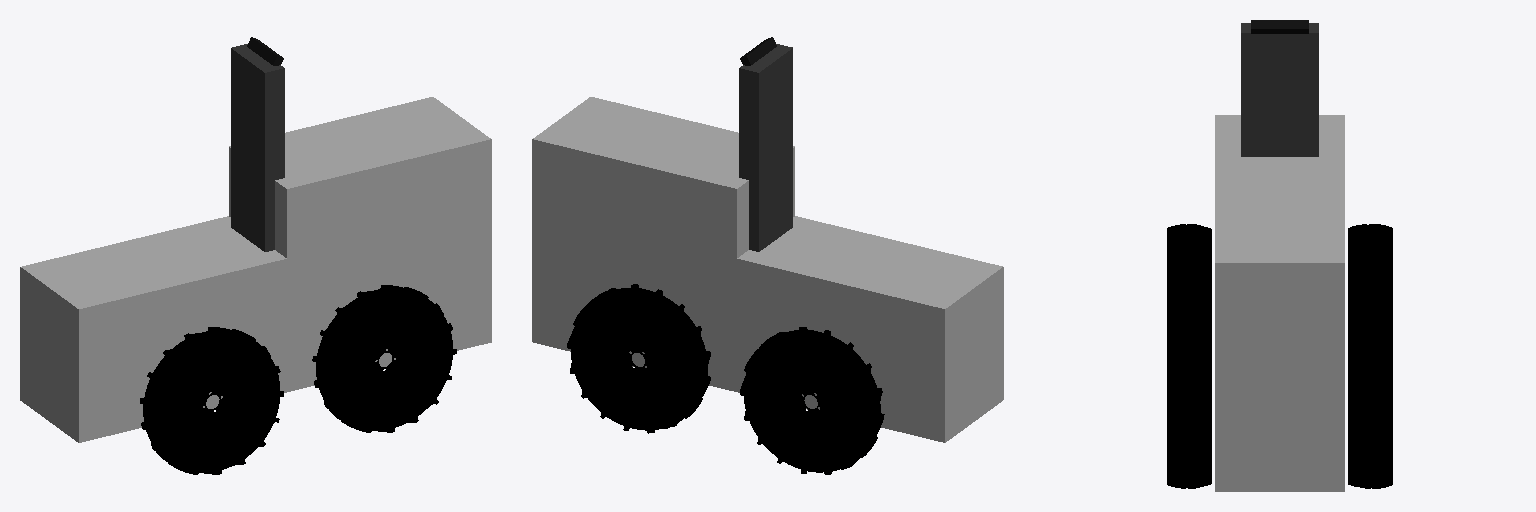
robot.urdf — fr_robot_sim_r1:
<?xml version="1.0" encoding="utf-8"?>
<!--
  fr_robot_sim_r1 — Evaluation URDF (r1_eval.urdf)

  Geometry summary (all measurements from ground / base_footprint origin):
  ┌──────────────┬───────────────────────────────────────────────────────────────┐
  │ bonnet       │ tall front hood;  0.770(x) × 0.380(y) × 0.731(z) m          │
  │              │ bottom at z=0.175 m,  x from pole(0) to +0.770 m             │
  │ carrier      │ flat rear platform; 0.783(x) × 0.380(y) × 0.481(z) m        │
  │              │ bottom at z=0.175 m,  x from pole(0) to -0.783 m             │
  │ pole         │ vertical centre frame; 0.075(x) × 0.224(y) × 0.645(z) m     │
  │              │ sits on carrier top (z=0.656 m), x=0 (axle midpoint)         │
  │ stereo_cam   │ Orbbec Gemini 336L placeholder; 0.030(x)×0.170(y)×0.035(z)  │
  │              │ joint at (0.029, 0, 1.314) m, pitched 30° nose-down          │
  └──────────────┴───────────────────────────────────────────────────────────────┘

  Sensor attachment points:
    • stereo_cam  — stereo/depth camera frame; +x is look direction (30° below
                    horizontal). Add <gazebo reference="stereo_cam"> sensor block.

  Physics identical to production:
    • DiffDrive, JointStatePublisher, PosePublisher Gazebo plugins unchanged
    • Total mass ≈ 350 kg (4 × 7.07 kg wheels + 188 bonnet + 126 carrier +
                           7.2 pole + 0.5 camera)
    • All joint origins / axes unchanged
-->
<robot name="fr_robot_sim_r1">

  <!-- ══════════════════════════════════════════════════════════════════
       base_footprint — ground-plane reference frame, no geometry.
       Origin = ground level directly below the axle midpoint.
       ══════════════════════════════════════════════════════════════════ -->
  <link name="base_footprint"/>

  <link name="fl_whl">
    <inertial>
      <origin
        xyz="-2.95136137751228E-12 -0.0649890184058302 -1.38333788868295E-13"
        rpy="0 0 0"/>
      <mass value="7.06811205934986"/>
      <inertia
        ixx="0.153378078859329"
        ixy="3.48878255349016E-13"
        ixz="-7.25942340337194E-07"
        iyy="0.277789945529784"
        iyz="1.67204191517711E-13"
        izz="0.153379477023329"/>
    </inertial>
    <visual>
      <origin xyz="0 0 0" rpy="0 0 0"/>
      <geometry>
        <mesh filename="package://diffbot_description/meshes/visual/fl_whl.STL"/>
      </geometry>
      <material name="tyre_black">
        <color rgba="0 0 0 1"/>
      </material>
    </visual>
    <collision>
      <origin xyz="0 0 0" rpy="0 0 0"/>
      <geometry>
        <mesh filename="package://diffbot_description/meshes/visual/fl_whl.STL"/>
      </geometry>
    </collision>
  </link>

  <joint name="fl_whl_j" type="continuous">
    <origin xyz="0.32511 0.32852 0.24872" rpy="0 0 0"/>
    <parent link="base_footprint"/>
    <child link="fl_whl"/>
    <axis xyz="0 1 0">
      <dynamics damping="0.1" friction="0.0"/>
    </axis>
  </joint>

  <link name="fr_whl">
    <inertial>
      <origin
        xyz="3.94406729498087E-13 0.0649890184057719 -5.67074165402914E-13"
        rpy="0 0 0"/>
      <mass value="7.06811205937898"/>
      <inertia
        ixx="0.153377774110482"
        ixy="3.27658973589324E-14"
        ixz="-8.95930429308197E-08"
        iyy="0.277789945530908"
        iyz="-3.70758291602672E-14"
        izz="0.153379781773593"/>
    </inertial>
    <visual>
      <origin xyz="0 0 0" rpy="0 0 0"/>
      <geometry>
        <mesh filename="package://diffbot_description/meshes/visual/fr_whl.STL"/>
      </geometry>
      <material name="tyre_black">
        <color rgba="0 0 0 1"/>
      </material>
    </visual>
    <collision>
      <origin xyz="0 0 0" rpy="0 0 0"/>
      <geometry>
        <mesh filename="package://diffbot_description/meshes/visual/fr_whl.STL"/>
      </geometry>
    </collision>
  </link>

  <joint name="fr_whl_j" type="continuous">
    <origin xyz="0.32511 -0.32873 0.24872" rpy="0 0 0"/>
    <parent link="base_footprint"/>
    <child link="fr_whl"/>
    <axis xyz="0 1 0">
      <dynamics damping="0.1" friction="0.0"/>
    </axis>
  </joint>

  <link name="bl_whl">
    <inertial>
      <origin
        xyz="-1.87311277599633E-12 -0.0649890184058974 5.85587134338539E-13"
        rpy="0 0 0"/>
      <mass value="7.06811205932077"/>
      <inertia
        ixx="0.153379577326545"
        ixy="3.16018084950189E-13"
        ixz="6.13748296895596E-07"
        iyy="0.27778994552866"
        iyz="9.01914517128869E-15"
        izz="0.153377978554733"/>
    </inertial>
    <visual>
      <origin xyz="0 0 0" rpy="0 0 0"/>
      <geometry>
        <mesh filename="package://diffbot_description/meshes/visual/bl_whl.STL"/>
      </geometry>
      <material name="tyre_black">
        <color rgba="0 0 0 1"/>
      </material>
    </visual>
    <collision>
      <origin xyz="0 0 0" rpy="0 0 0"/>
      <geometry>
        <mesh filename="package://diffbot_description/meshes/visual/bl_whl.STL"/>
      </geometry>
    </collision>
  </link>

  <joint name="bl_whl_j" type="continuous">
    <origin xyz="-0.32489 0.32852 0.24872" rpy="0 0 0"/>
    <parent link="base_footprint"/>
    <child link="bl_whl"/>
    <axis xyz="0 1 0">
      <dynamics damping="0.1" friction="0.0"/>
    </axis>
  </joint>

  <link name="br_whl">
    <inertial>
      <origin
        xyz="-1.96509475358653E-14 0.0649890184058985 -3.36480843188269E-13"
        rpy="0 0 0"/>
      <mass value="7.06811205932075"/>
      <inertia
        ixx="0.15337943089883"
        ixy="3.29634047384018E-14"
        ixz="7.67692927860888E-07"
        iyy="0.277789945528659"
        iyz="-2.50307281304881E-14"
        izz="0.153378124982513"/>
    </inertial>
    <visual>
      <origin xyz="0 0 0" rpy="0 0 0"/>
      <geometry>
        <mesh filename="package://diffbot_description/meshes/visual/br_whl.STL"/>
      </geometry>
      <material name="tyre_black">
        <color rgba="0 0 0 1"/>
      </material>
    </visual>
    <collision>
      <origin xyz="0 0 0" rpy="0 0 0"/>
      <geometry>
        <mesh filename="package://diffbot_description/meshes/visual/br_whl.STL"/>
      </geometry>
    </collision>
  </link>

  <joint name="br_whl_j" type="continuous">
    <origin xyz="-0.32489 -0.32873 0.24872" rpy="0 0 0"/>
    <parent link="base_footprint"/>
    <child link="br_whl"/>
    <axis xyz="0 1 0">
      <dynamics damping="0.1" friction="0.0"/>
    </axis>
  </joint>

  <!-- ══════════════════════════════════════════════════════════════════
       bonnet — tall front hood

       Box   : 0.770 m (x) × 0.380 m (y) × 0.731 m (z)
       Extent: x  [0, +0.770]  (pole at x=0 → front face at x=+0.770)
               z  [+0.175, +0.906]  (ground clearance 175 mm)
       Width 0.380 m = wheel separation (657 mm) − full tire width (157 mm),
       chosen so the box clears the inner half of each tyre.
       Mass 188 kg (volume-proportional share of 321.7 kg chassis pool).
       ══════════════════════════════════════════════════════════════════ -->
  <link name="bonnet">
    <inertial>
      <!-- COM at geometric centre of the box in this link's frame -->
      <origin xyz="0.3850 0 0.5405" rpy="0 0 0"/>
      <mass value="188.1"/>
      <inertia
        ixx="12.303" ixy="0" ixz="0"
        iyy="17.672" iyz="0"
        izz="13.221"/>
    </inertial>
    <visual>
      <origin xyz="0.3850 0 0.5405" rpy="0 0 0"/>
      <geometry>
        <box size="0.770 0.380 0.731"/>
      </geometry>
      <material name="chassis_grey">
        <color rgba="0.70 0.70 0.70 1"/>
      </material>
    </visual>
    <collision>
      <origin xyz="0.3850 0 0.5405" rpy="0 0 0"/>
      <geometry>
        <box size="0.770 0.380 0.731"/>
      </geometry>
    </collision>
  </link>

  <joint name="bonnet_j" type="fixed">
    <origin xyz="0 0 0" rpy="0 0 0"/>
    <parent link="base_footprint"/>
    <child link="bonnet"/>
  </joint>

  <!-- ══════════════════════════════════════════════════════════════════
       carrier — flat open rear platform

       Box   : 0.783 m (x) × 0.380 m (y) × 0.481 m (z)
       Extent: x  [-0.783, 0]  (pole at x=0 → rear face at x=-0.783)
               z  [+0.175, +0.656]  (ground clearance 175 mm)
       Mass 125.9 kg (volume-proportional).
       ══════════════════════════════════════════════════════════════════ -->
  <link name="carrier">
    <inertial>
      <origin xyz="-0.3915 0 0.4155" rpy="0 0 0"/>
      <mass value="125.9"/>
      <inertia
        ixx="5.054" ixy="0" ixz="0"
        iyy="8.858" iyz="0"
        izz="9.058"/>
    </inertial>
    <visual>
      <origin xyz="-0.3915 0 0.4155" rpy="0 0 0"/>
      <geometry>
        <box size="0.783 0.380 0.481"/>
      </geometry>
      <material name="chassis_grey">
        <color rgba="0.70 0.70 0.70 1"/>
      </material>
    </visual>
    <collision>
      <origin xyz="-0.3915 0 0.4155" rpy="0 0 0"/>
      <geometry>
        <box size="0.783 0.380 0.481"/>
      </geometry>
    </collision>
  </link>

  <joint name="carrier_j" type="fixed">
    <origin xyz="0 0 0" rpy="0 0 0"/>
    <parent link="base_footprint"/>
    <child link="carrier"/>
  </joint>

  <!-- ══════════════════════════════════════════════════════════════════
       pole — vertical centre frame carrying the stereo camera

       Box       : 0.075 m (x) × 0.224 m (y) × 0.645 m (z)
       Joint at  : (x=0, y=0, z=0.656) — carrier top surface
       Pole top  : z = 0.656 + 0.645 = 1.301 m from ground
       Mass 7.2 kg (volume-proportional).
       ══════════════════════════════════════════════════════════════════ -->
  <link name="pole">
    <inertial>
      <!-- COM at pole midpoint in pole link frame -->
      <origin xyz="0 0 0.3225" rpy="0 0 0"/>
      <mass value="7.2"/>
      <inertia
        ixx="0.2811" ixy="0" ixz="0"
        iyy="0.2543" iyz="0"
        izz="0.0337"/>
    </inertial>
    <visual>
      <origin xyz="0 0 0.3225" rpy="0 0 0"/>
      <geometry>
        <box size="0.075 0.224 0.645"/>
      </geometry>
      <material name="pole_dark">
        <color rgba="0.25 0.25 0.25 1"/>
      </material>
    </visual>
    <collision>
      <origin xyz="0 0 0.3225" rpy="0 0 0"/>
      <geometry>
        <box size="0.075 0.224 0.645"/>
      </geometry>
    </collision>
  </link>

  <!-- Joint origin at carrier top surface (z = 0.175 + 0.481 = 0.656 m) -->
  <joint name="pole_j" type="fixed">
    <origin xyz="0 0 0.656" rpy="0 0 0"/>
    <parent link="base_footprint"/>
    <child link="pole"/>
  </joint>

  <!-- ══════════════════════════════════════════════════════════════════
       stereo_cam — Orbbec Gemini 336L placeholder box

       Box          : 0.030 m (x/depth) × 0.170 m (y/width) × 0.035 m (z/height)
       Joint origin : (x=0.029, y=0, z=1.314) m in base_footprint frame
                      x: front wheel axle (0.325 m) minus 296 mm → 0.029 m
                      z: front wheel axle height (0.249 m) + 1 065 mm → 1.314 m
                      (12.7 mm above pole top — camera bracket clears the pole)
       Pitch        : +0.5236 rad (= +30°) → +x look-axis tilts 30° nose-down
                      Ry(+30°) · e_x = (cos30°, 0, −sin30°) = forward-down ✓

       Hires sensor note:
         • The camera link +x axis is the primary look direction.
         • Add your depth/color sensor via:
               <gazebo reference="stereo_cam">
                 <sensor name="depth" type="depth_camera"> … </sensor>
               </gazebo>
         • If your Orbbec driver needs a separate optical frame, add a child
           link with the standard 90° optical-frame rotation off this link.
       ══════════════════════════════════════════════════════════════════ -->
  <link name="stereo_cam">
    <inertial>
      <origin xyz="0 0 0" rpy="0 0 0"/>
      <mass value="0.5"/>
      <inertia
        ixx="0.001255" ixy="0" ixz="0"
        iyy="0.000089" iyz="0"
        izz="0.001242"/>
    </inertial>
    <visual>
      <origin xyz="0 0 0" rpy="0 0 0"/>
      <geometry>
        <!-- 30 mm depth × 170 mm wide × 35 mm tall in camera link frame -->
        <box size="0.030 0.170 0.035"/>
      </geometry>
      <material name="sensor_dark">
        <color rgba="0.10 0.10 0.10 1"/>
      </material>
    </visual>
    <collision>
      <origin xyz="0 0 0" rpy="0 0 0"/>
      <geometry>
        <box size="0.030 0.170 0.035"/>
      </geometry>
    </collision>
  </link>

  <joint name="stereo_cam_j" type="fixed">
    <!-- xyz: 29 mm behind front axle line, centred laterally, 1 314 mm above ground -->
    <!-- rpy: pitch = +π/6 (+30°) → camera looks forward 30° below horizontal     -->
    <origin xyz="0.029 0 1.314" rpy="0 0.5236 0"/>
    <parent link="base_footprint"/>
    <child link="stereo_cam"/>
  </joint>

  <!-- ══════════════════════════════════════════════════════════════════
       Gazebo plugins
       ══════════════════════════════════════════════════════════════════ -->
  <gazebo>
    <plugin name="ignition::gazebo::systems::DiffDrive"
            filename="libignition-gazebo6-diff-drive-system.so">
      <update_rate>50</update_rate>
      <left_joint>fl_whl_j</left_joint>
      <left_joint>bl_whl_j</left_joint>
      <right_joint>fr_whl_j</right_joint>
      <right_joint>br_whl_j</right_joint>
      <wheel_separation>0.65725</wheel_separation>
      <wheel_radius>0.065</wheel_radius>
      <max_wheel_torque>15</max_wheel_torque>
      <max_wheel_acceleration>1.0</max_wheel_acceleration>
      <publish_odom>true</publish_odom>
      <publish_odom_tf>true</publish_odom_tf>
      <publish_wheel_tf>true</publish_wheel_tf>
      <odometry_frame>odom</odometry_frame>
      <robot_base_frame>base_footprint</robot_base_frame>
      <topic>cmd_vel</topic>
      <odom_topic>odom</odom_topic>
      <odom_publisher_frequency>30</odom_publisher_frequency>
    </plugin>
  </gazebo>

  <gazebo>
    <plugin filename="libignition-gazebo6-joint-state-publisher-system"
            name="ignition::gazebo::systems::JointStatePublisher"/>
    <plugin filename="libignition-gazebo6-pose-publisher-system"
            name="ignition::gazebo::systems::PosePublisher">
      <publish_link_pose>true</publish_link_pose>
      <publish_sensor_pose>true</publish_sensor_pose>
      <publish_model_pose>false</publish_model_pose>
      <use_pose_vector_msg>true</use_pose_vector_msg>
    </plugin>
  </gazebo>

</robot>

--- Facts derived from the render (not from the file) ---
3 views of the same robot in one strip: view 1: azimuth 30°, elevation 25°; view 2: azimuth 150°, elevation 25°; view 3: azimuth 270°, elevation 25° (orthographic).
Robot: fr_robot_sim_r1 — 9 links, 8 joints (4 continuous, 4 fixed); root link base_footprint; default pose: all joints at 0.
Visible links, largest first — view 1: bonnet, carrier, fr_whl, br_whl, pole; view 2: bonnet, carrier, fl_whl, bl_whl, pole; view 3: bonnet, pole, fl_whl, fr_whl, bl_whl, br_whl, carrier, stereo_cam.
Link boxes in pixels (box(x1,y1,x2,y2)): bonnet: box(229, 97, 491, 391); carrier: box(20, 216, 286, 442); fr_whl: box(312, 285, 456, 432); br_whl: box(140, 327, 283, 474); pole: box(231, 44, 284, 251); bonnet: box(532, 97, 794, 391); carrier: box(737, 216, 1003, 442); fl_whl: box(567, 284, 710, 433); bl_whl: box(740, 327, 884, 474); pole: box(739, 44, 792, 251); bonnet: box(1215, 151, 1344, 491); pole: box(1241, 23, 1318, 156); fl_whl: box(1348, 318, 1392, 488); fr_whl: box(1167, 318, 1211, 488); bl_whl: box(1348, 224, 1392, 322); br_whl: box(1167, 224, 1211, 322); carrier: box(1215, 115, 1344, 150); stereo_cam: box(1251, 20, 1308, 33).
Size in the robot's own frame: 1.55 by 0.6572 by 1.34 metres.
Meshes: 4 distinct files referenced, 4 mesh visuals loaded (4 binary STL).
